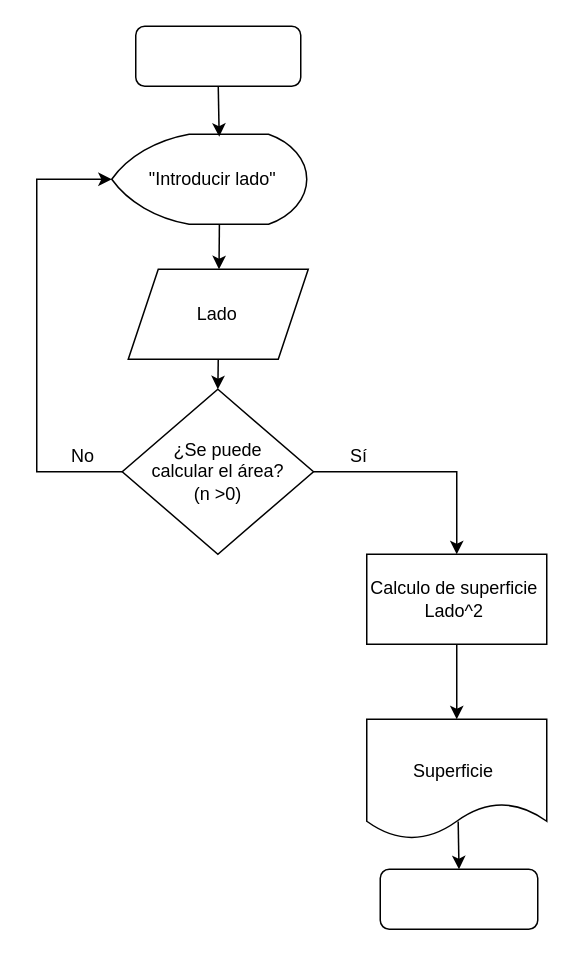
This 573x956 diagram has some shape labels left out. The box of each missing label's shape, as (x1, y1, x2, y2) in pixels:
Fin: (379, 868, 538, 929)
Inicio: (134, 25, 301, 86)
